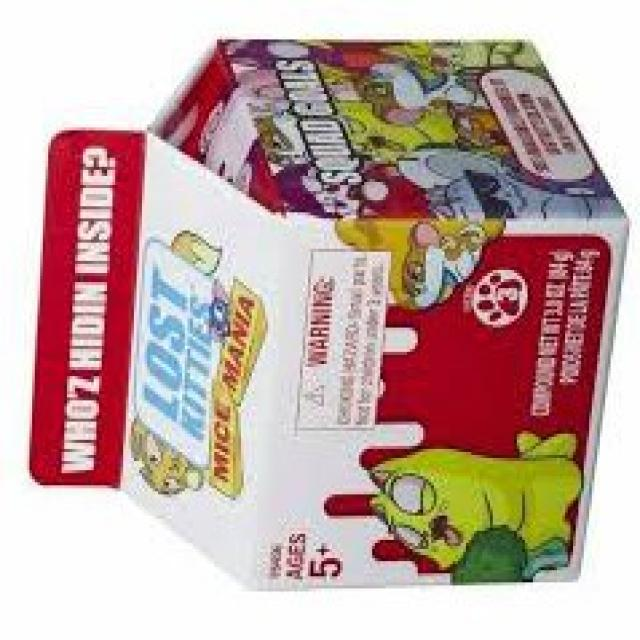non_white_jug: (33, 34, 628, 586)
